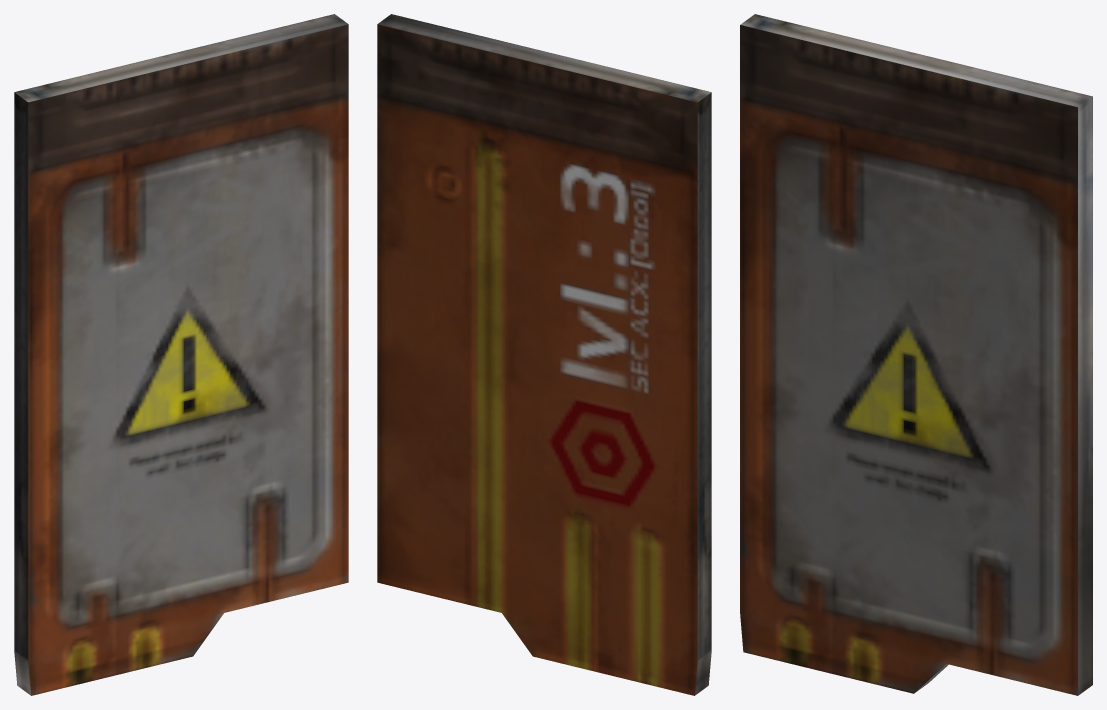
Rendered from securitychip.dae.
3 renders of one model, left to right at view 1: azimuth 30°, elevation 25°; view 2: azimuth 150°, elevation 25°; view 3: azimuth 330°, elevation 25°, orthographic. The views are drawn at different scales.
Parts seen in each view (by area): view 1: Mesh; view 2: Mesh; view 3: Mesh.
Boxes of the visible parts, x1=… form: Mesh: x1=14, y1=14, x2=348, y2=695; Mesh: x1=377, y1=14, x2=711, y2=695; Mesh: x1=740, y1=14, x2=1092, y2=695.
Bounding box in the file's own units: 0.0793 × 0.1405 × 0.00604.
